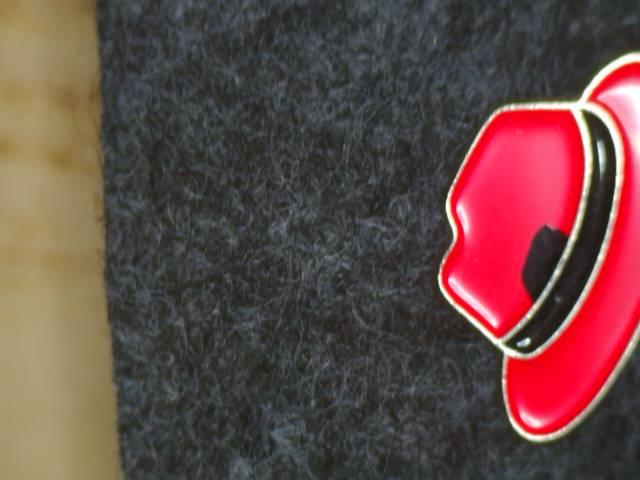Red-Hat: (432, 17, 640, 454)
Scratch: (509, 207, 587, 328)
